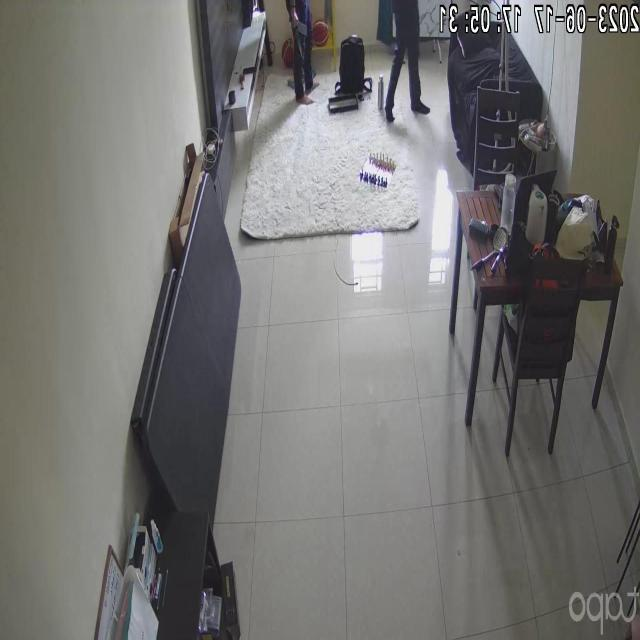Knife: (291, 15, 313, 46)
